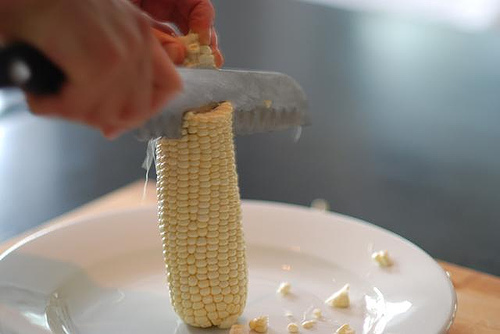corn: (143, 19, 255, 332), (371, 249, 392, 270)
